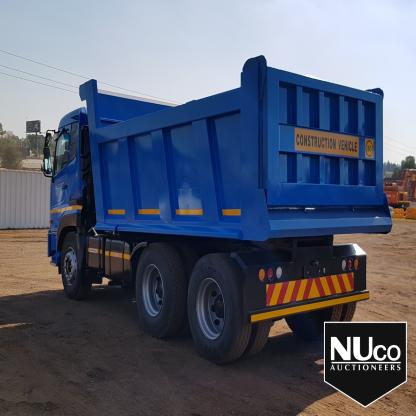dump_truck: (25, 55, 406, 374)
